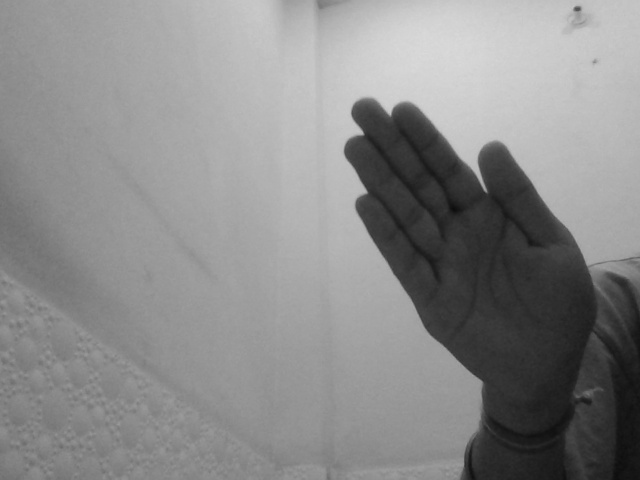Hello: (341, 102, 598, 397)
